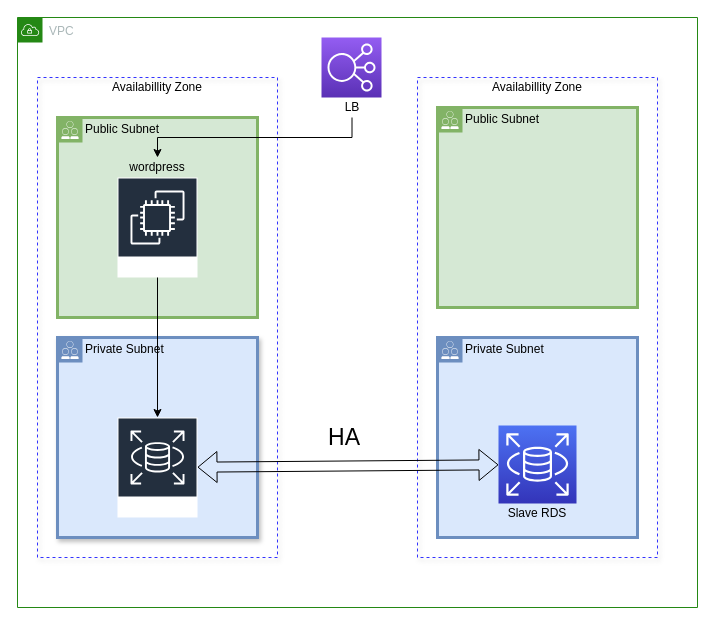
The diagram is 715 pixels wide and 625 high, and some of its shapes have lost their labels. The shapes that lost their labels are listed below. From the top down, each one's centre as x and y in pixels, then its label:
At point 157,227: "Amazon EC2".
At point 157,467: "Master RDS".
